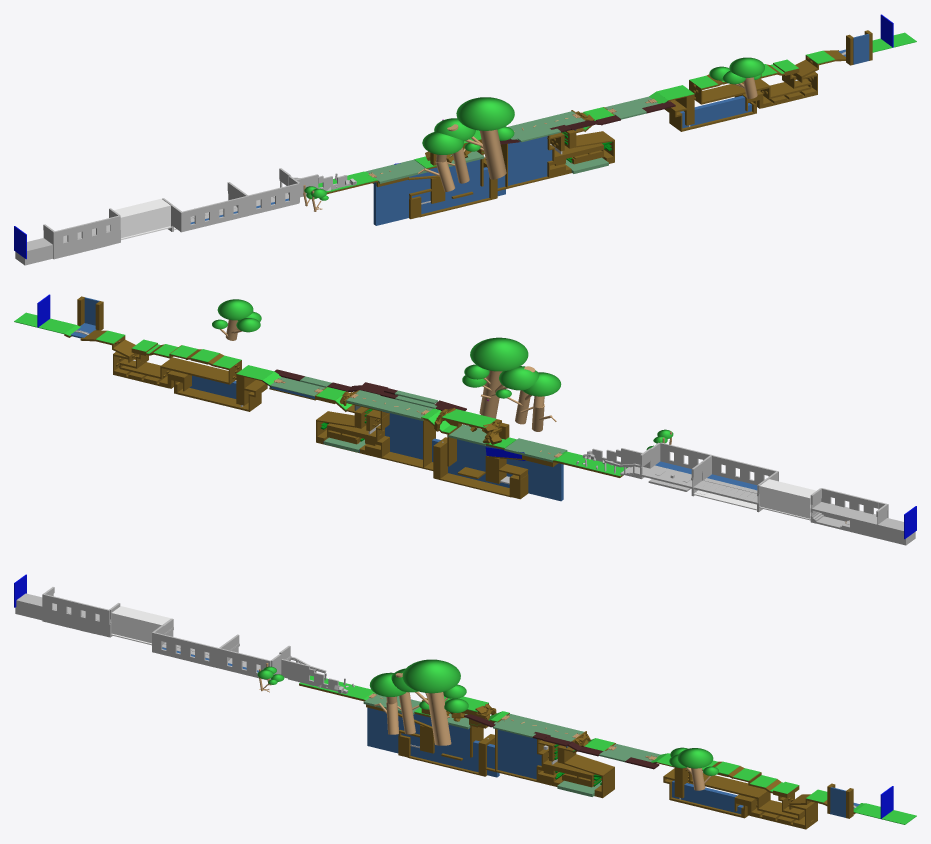
Rendered from unityexport.obj.
3 renders of one model, top to bottom at view 1: azimuth 30°, elevation 25°; view 2: azimuth 150°, elevation 25°; view 3: azimuth 330°, elevation 25°, orthographic.
Visible parts, largest first — view 1: DirtGround, TempleStone, Water (6), Grass, Cylinder (10), Water (3), Sphere (36), AntiG Area, Sphere (3), Water (1), SwampWater3, SwampWater5 (+2 smaller); view 2: DirtGround, TempleStone, Grass, Water (6), Sphere (36), Cylinder (10), AntiG Area, Water (3), Sphere (3), SwampWater3, SwampSteps, Sphere (4) (+5 smaller); view 3: DirtGround, TempleStone, Grass, Water (6), Cylinder (10), Water (3), Sphere (36), AntiG Area, Sphere (3), Water (1), SwampWater3, SwampSteps (+2 smaller).
Part boxes in pixels (bbox=[...]): DirtGround: bbox=[327, 30, 872, 219]; TempleStone: bbox=[15, 168, 356, 265]; Water (6): bbox=[373, 159, 480, 225]; Grass: bbox=[318, 32, 916, 192]; Cylinder (10): bbox=[303, 77, 757, 211]; Water (3): bbox=[508, 136, 548, 185]; Sphere (36): bbox=[456, 97, 514, 130]; AntiG Area: bbox=[114, 198, 170, 237]; Sphere (3): bbox=[422, 57, 764, 154]; Water (1): bbox=[680, 95, 745, 128]; SwampWater3: bbox=[508, 111, 585, 137]; SwampWater5: bbox=[366, 159, 427, 183]; DirtGround: bbox=[64, 296, 622, 499]; TempleStone: bbox=[582, 442, 915, 545]; Grass: bbox=[14, 312, 626, 476]; Water (6): bbox=[457, 439, 563, 501]; Sphere (36): bbox=[470, 337, 528, 371]; Cylinder (10): bbox=[225, 319, 671, 444]; AntiG Area: bbox=[759, 479, 816, 518]; Water (3): bbox=[389, 413, 422, 459]; Sphere (3): bbox=[217, 299, 561, 396]; SwampWater3: bbox=[346, 390, 436, 420]; SwampSteps: bbox=[274, 369, 466, 410]; Sphere (4): bbox=[238, 311, 539, 390]; DirtGround: bbox=[299, 684, 855, 829]; TempleStone: bbox=[15, 587, 348, 693]; Grass: bbox=[299, 676, 916, 824]; Water (6): bbox=[367, 707, 471, 770]; Cylinder (10): bbox=[259, 673, 705, 790]; Water (3): bbox=[497, 729, 539, 779]; Sphere (36): bbox=[402, 659, 460, 693]; AntiG Area: bbox=[111, 606, 171, 643]; Sphere (3): bbox=[369, 672, 713, 768]; Water (1): bbox=[672, 780, 737, 812]; SwampWater3: bbox=[494, 714, 583, 741]; SwampSteps: bbox=[464, 714, 659, 769].
Size of the model in its own units: 893 by 114 by 86.32.
